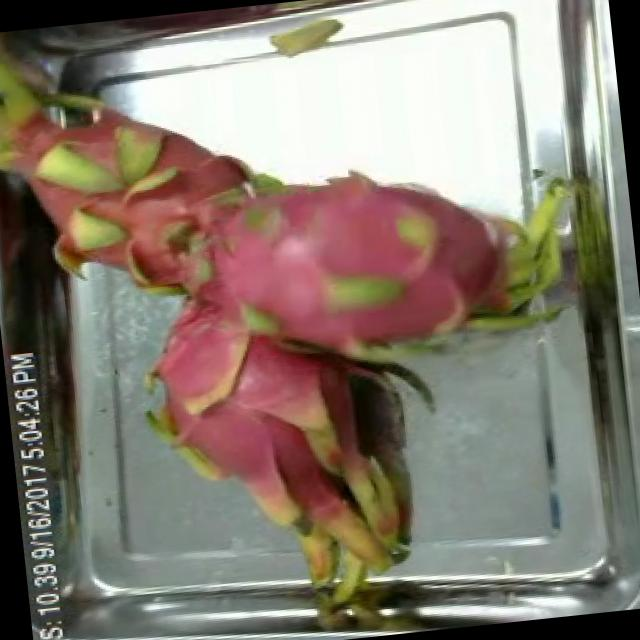Fruit: (335, 358, 428, 478)
